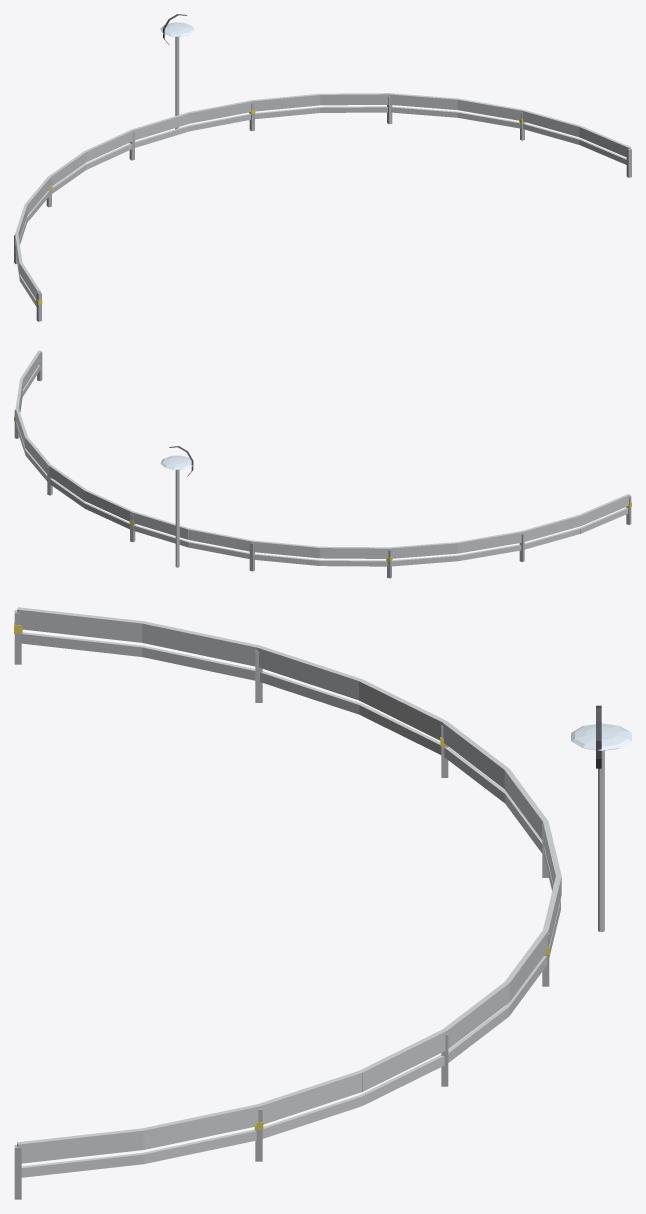
Rendered from akina_hairpin_mirror.glb.
3 renders of one model, top to bottom at view 1: azimuth 30°, elevation 25°; view 2: azimuth 150°, elevation 25°; view 3: azimuth 270°, elevation 25°, orthographic. The views are drawn at different scales.
Parts seen in each view (by area): view 1: akina_hairpin_mirror; view 2: akina_hairpin_mirror; view 3: akina_hairpin_mirror.
Part boxes in pixels (left/top/right/bottom): akina_hairpin_mirror: left=14, top=14, right=631, bottom=321; akina_hairpin_mirror: left=14, top=350, right=631, bottom=578; akina_hairpin_mirror: left=14, top=607, right=631, bottom=1199.
Size of the model in its own units: 17.89 by 3.45 by 8.68.
